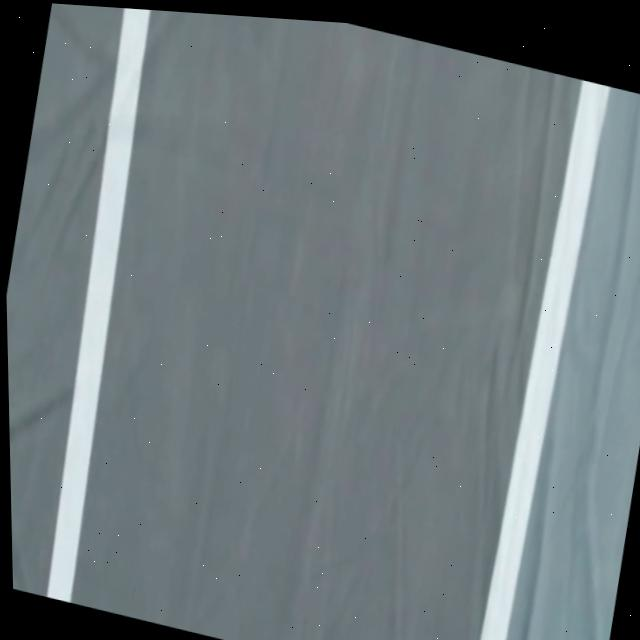center: (47, 8, 150, 602)
left: (480, 80, 610, 640)
